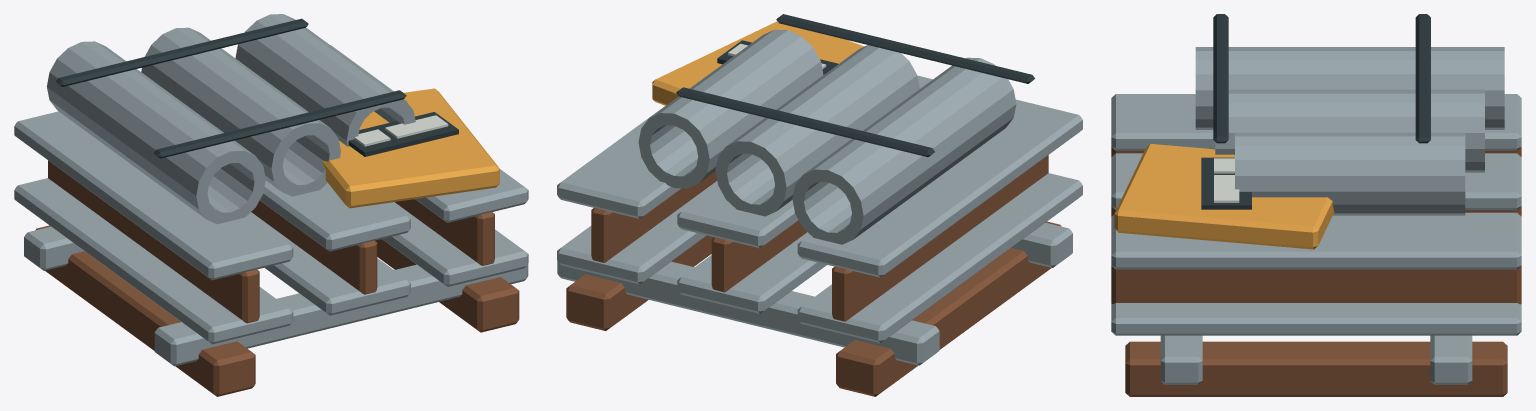
The model's file is materials_0.glb.
3 renders of one model, left to right at view 1: azimuth 30°, elevation 25°; view 2: azimuth 150°, elevation 25°; view 3: azimuth 270°, elevation 25°, orthographic. The views are drawn at different scales.
Parts seen in each view (by area): view 1: materials_0; view 2: materials_0; view 3: materials_0.
Boxes of the visible parts, x1,y1,x2,y2 form: materials_0: (14, 14, 528, 396); materials_0: (557, 14, 1082, 396); materials_0: (1111, 14, 1521, 396).
Bounding box in the file's own units: 0.76 × 0.4415 × 0.73.
